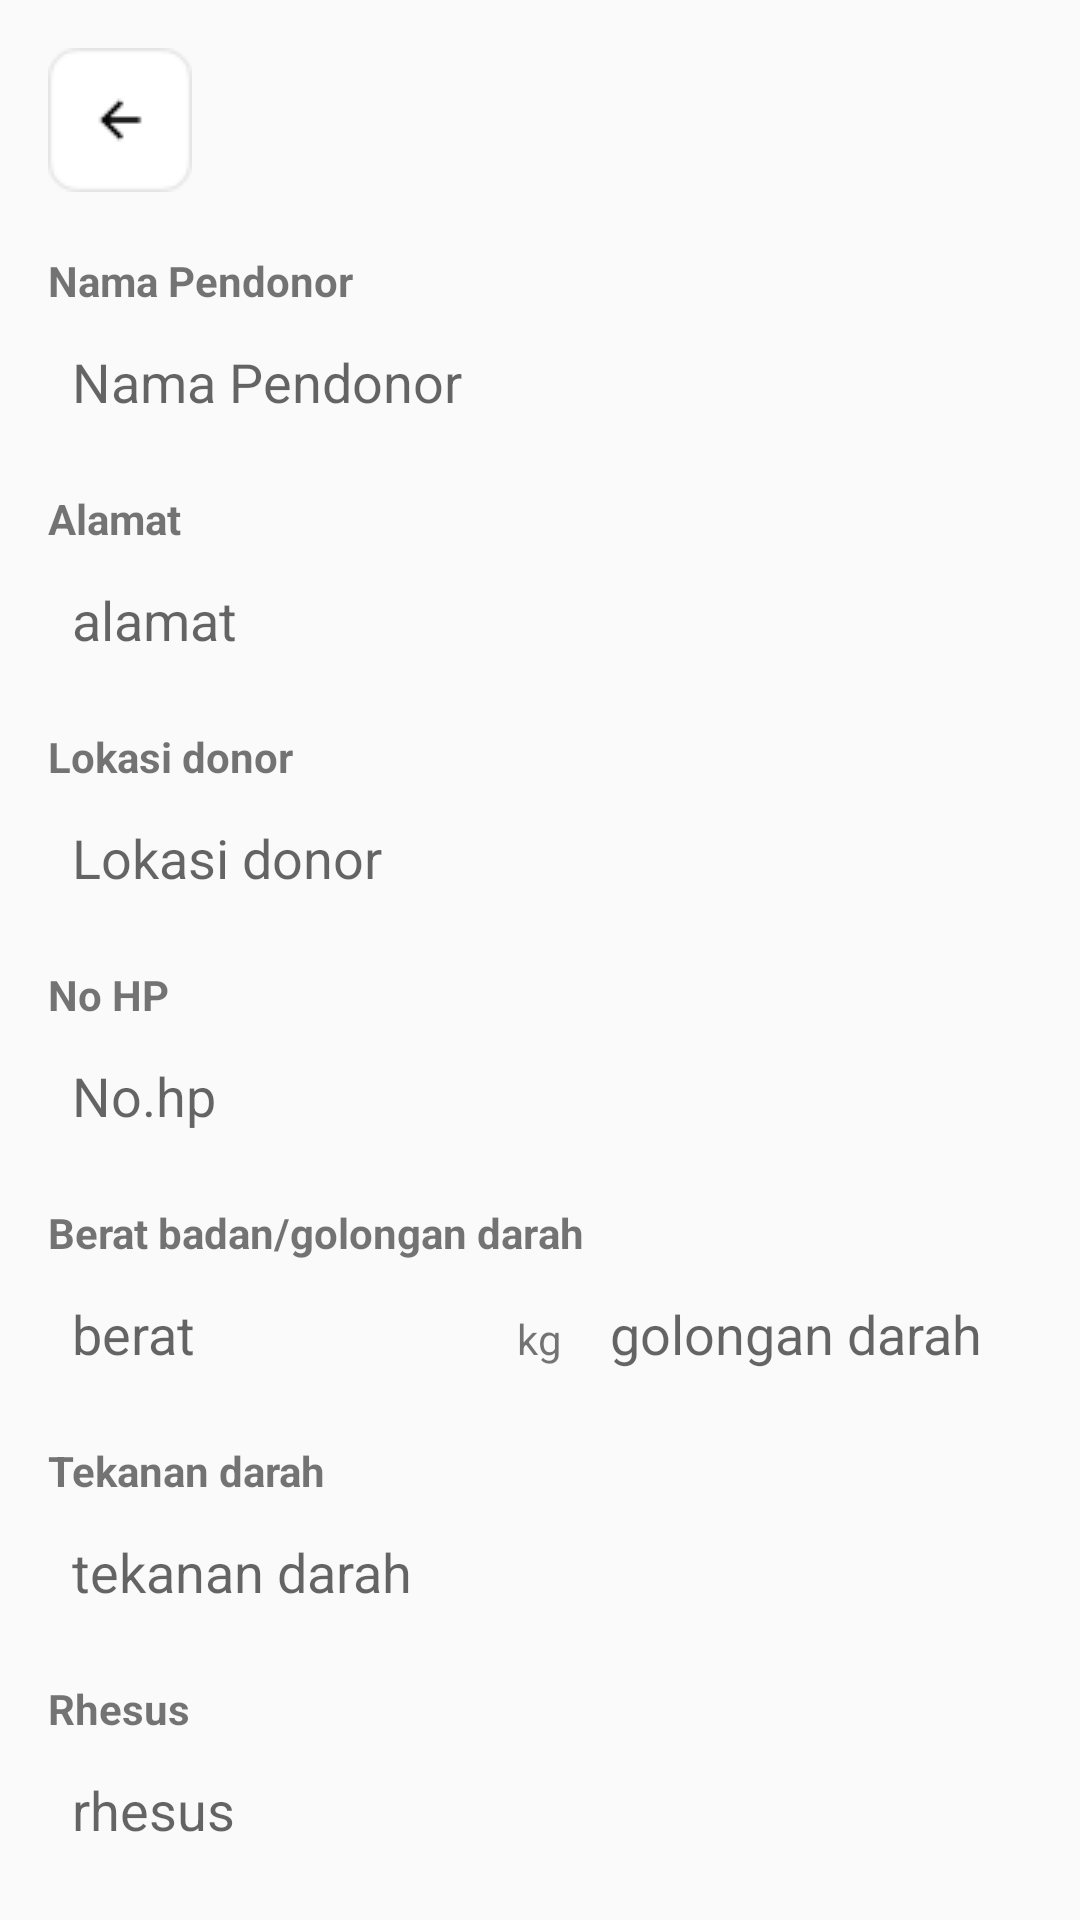

Where to tap for icons on this 1080x1920 app screen, as (x,y):
back: (120,120)
